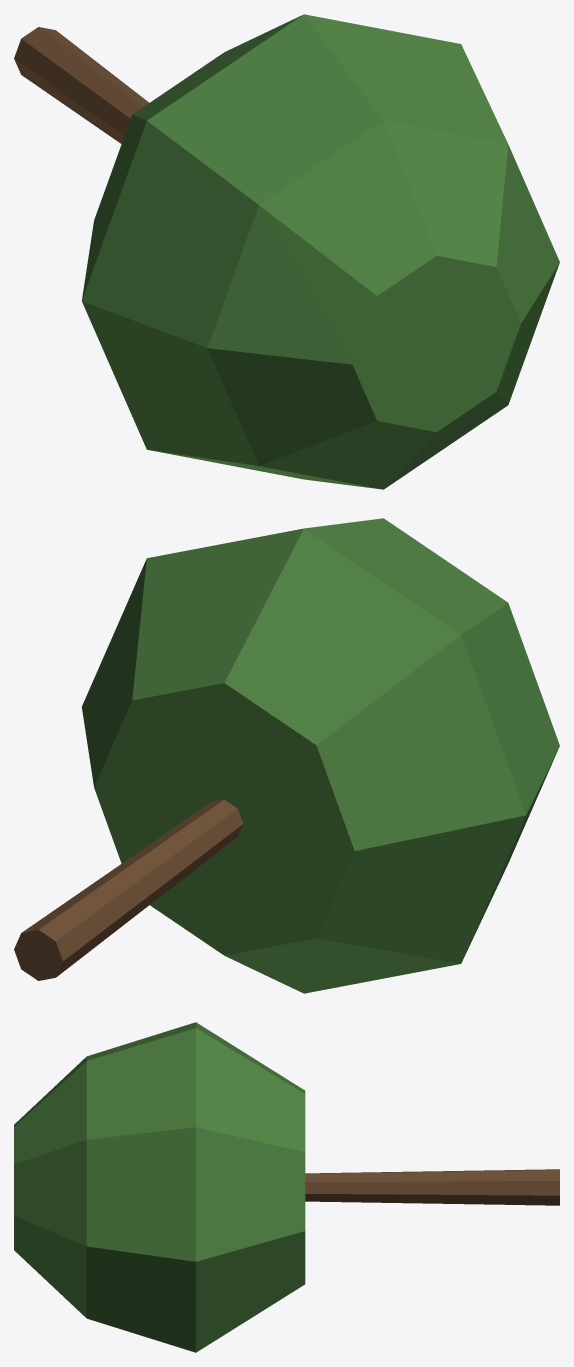
File: tree.obj
3 views of the same model, one above another, from view 1: azimuth 30°, elevation 25°; view 2: azimuth 150°, elevation 25°; view 3: azimuth 270°, elevation 25° (orthographic). The views are drawn at different scales.
Bounding box in the file's own units: 2.9 × 2.9 × 4.5.
